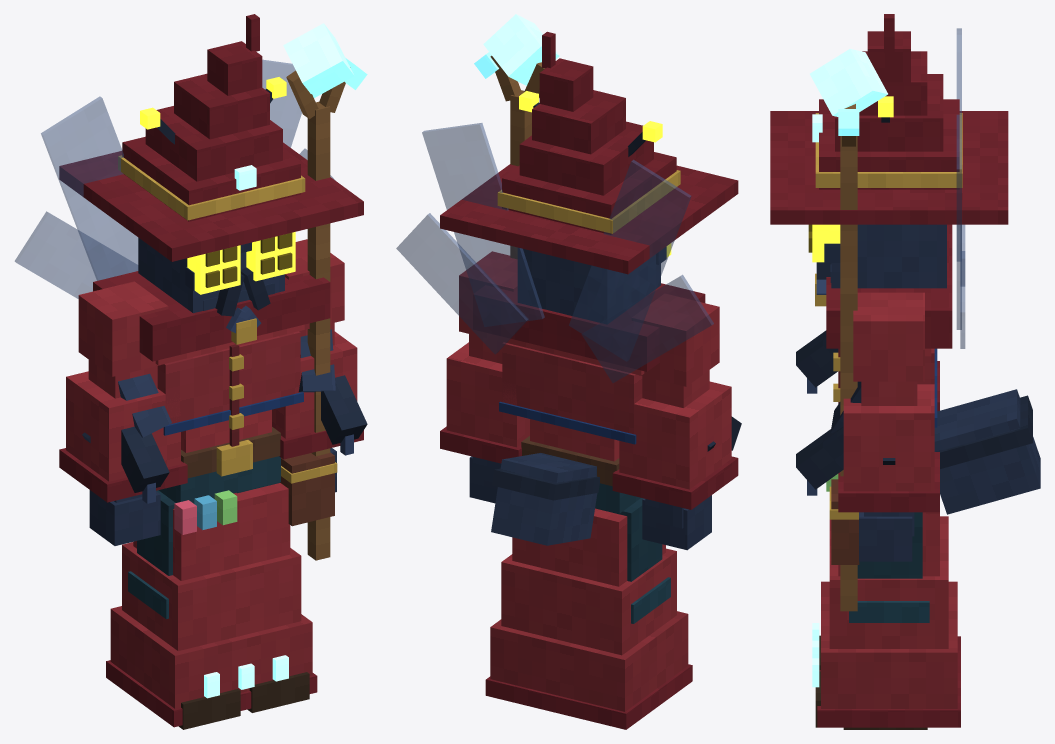
Rendered from insectoid_mage_v3.glb.
The picture shows the model from 3 angles, left to right: view 1: azimuth 30°, elevation 25°; view 2: azimuth 150°, elevation 25°; view 3: azimuth 270°, elevation 25°; orthographic projection. The views are drawn at different scales.
Parts seen in each view (by area): view 1: Torso, Head, Root, ArmR, HandL, ArmL, LegR, LegL; view 2: Torso, Head, Root, ArmR, ArmL, HandL, LegR; view 3: Head, Torso, ArmL, Root, HandL, LegL.
Boxes of the visible parts, bbox=[...] form: Torso: bbox=[15, 59, 367, 534]; Head: bbox=[59, 14, 363, 333]; Root: bbox=[106, 483, 317, 727]; ArmR: bbox=[59, 281, 187, 545]; HandL: bbox=[283, 23, 367, 560]; ArmL: bbox=[272, 239, 363, 492]; LegR: bbox=[128, 490, 240, 729]; LegL: bbox=[237, 482, 309, 712]; Torso: bbox=[396, 123, 741, 545]; Head: bbox=[440, 31, 738, 323]; Root: bbox=[485, 508, 692, 729]; ArmR: bbox=[612, 293, 738, 550]; ArmL: bbox=[440, 251, 529, 503]; HandL: bbox=[474, 14, 559, 258]; LegR: bbox=[595, 498, 670, 623]; Head: bbox=[770, 14, 1008, 294]; Torso: bbox=[796, 28, 1040, 564]; ArmL: bbox=[838, 292, 939, 561]; Root: bbox=[812, 512, 960, 727]; HandL: bbox=[810, 49, 887, 611]; LegL: bbox=[815, 512, 929, 729].
Size of the model in its own units: 1.12 by 2.21 by 0.7727.
38 materials, 38 textured.
